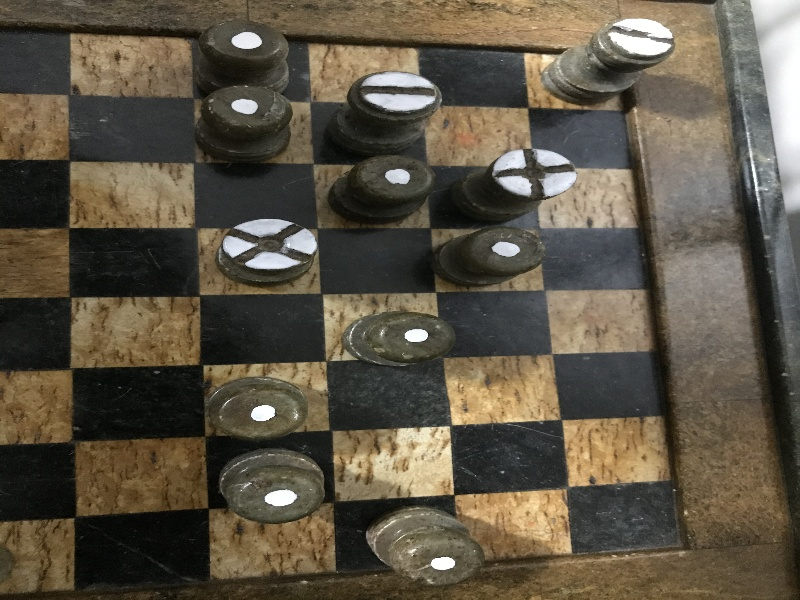WhiteBishop: (459, 149, 578, 220), (217, 220, 317, 287)
WhitePawn: (365, 504, 478, 584), (219, 449, 325, 522), (196, 85, 292, 160), (329, 155, 433, 223), (197, 20, 290, 94), (436, 227, 544, 285), (205, 378, 305, 439), (341, 313, 454, 365)
WhiteRook: (541, 18, 676, 104), (329, 71, 442, 153)
